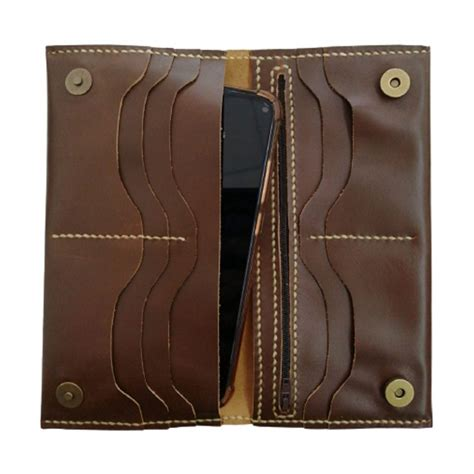cuero: (41, 43, 435, 431)
